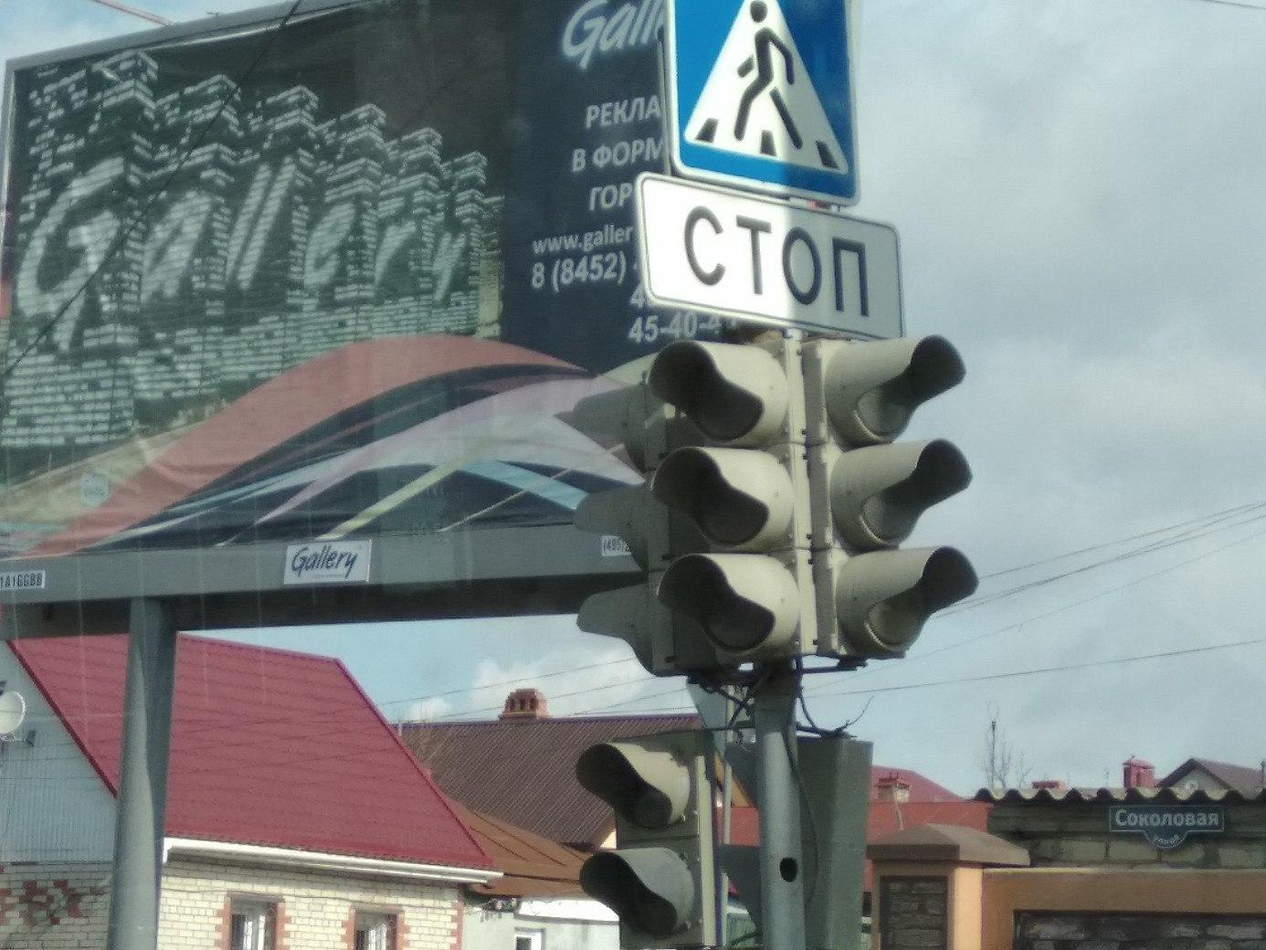obstructed_road_sign: (668, 0, 860, 204)
off traffic light: (649, 337, 818, 661), (808, 334, 978, 656), (573, 383, 709, 673), (575, 727, 725, 949)
road_sign: (637, 174, 900, 339)
